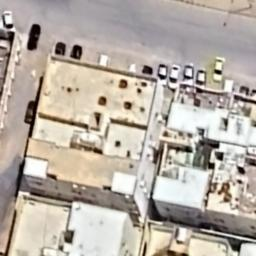sedan: (24, 22, 42, 52), (22, 98, 38, 126), (1, 9, 16, 34), (166, 63, 182, 85), (212, 54, 224, 83), (50, 40, 68, 58), (156, 60, 169, 84), (182, 62, 195, 86), (196, 64, 208, 90), (68, 42, 82, 62)
